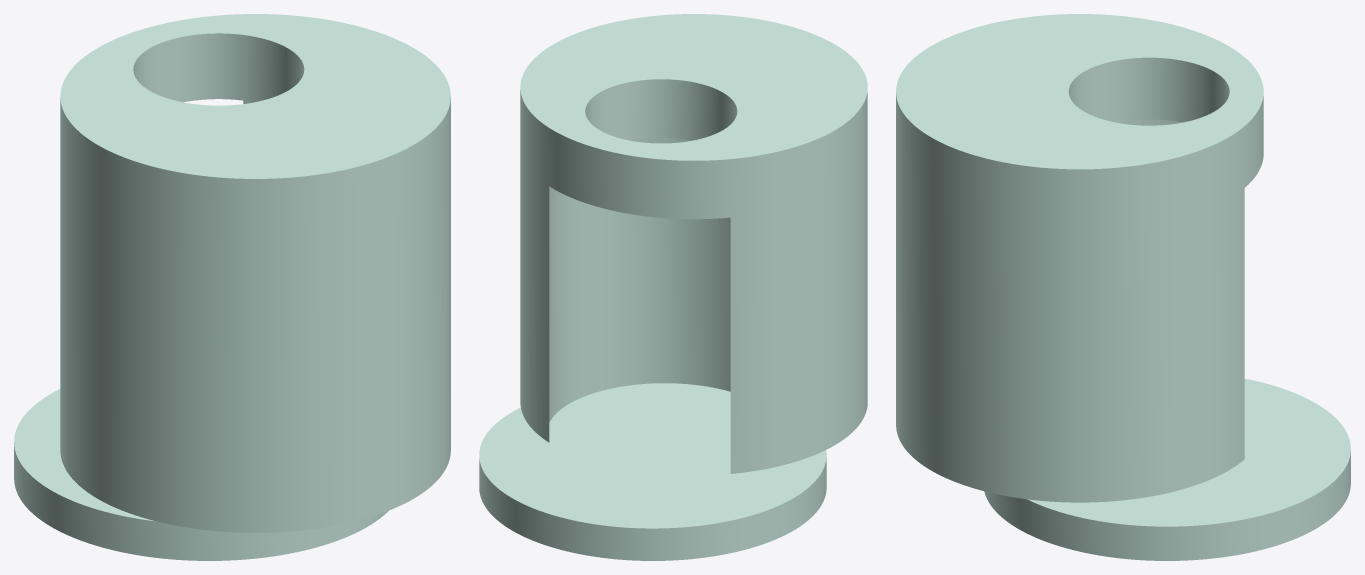
The picture shows the model from 3 angles, left to right: view 1: azimuth 30°, elevation 25°; view 2: azimuth 150°, elevation 25°; view 3: azimuth 270°, elevation 25°; orthographic projection. The views are drawn at different scales.
Visible parts, largest first — view 1: Renderer Node; view 2: Renderer Node; view 3: Renderer Node.
Boxes of the visible parts, x1,y1,x2,y2 form: Renderer Node: (14,14,450,560); Renderer Node: (479,14,867,560); Renderer Node: (896,14,1350,560).
Bounding box in the file's own units: 0.7578 × 0.8906 × 0.9376.
